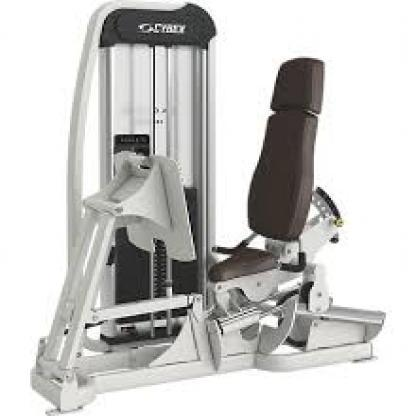leg press: (20, 0, 394, 416)
